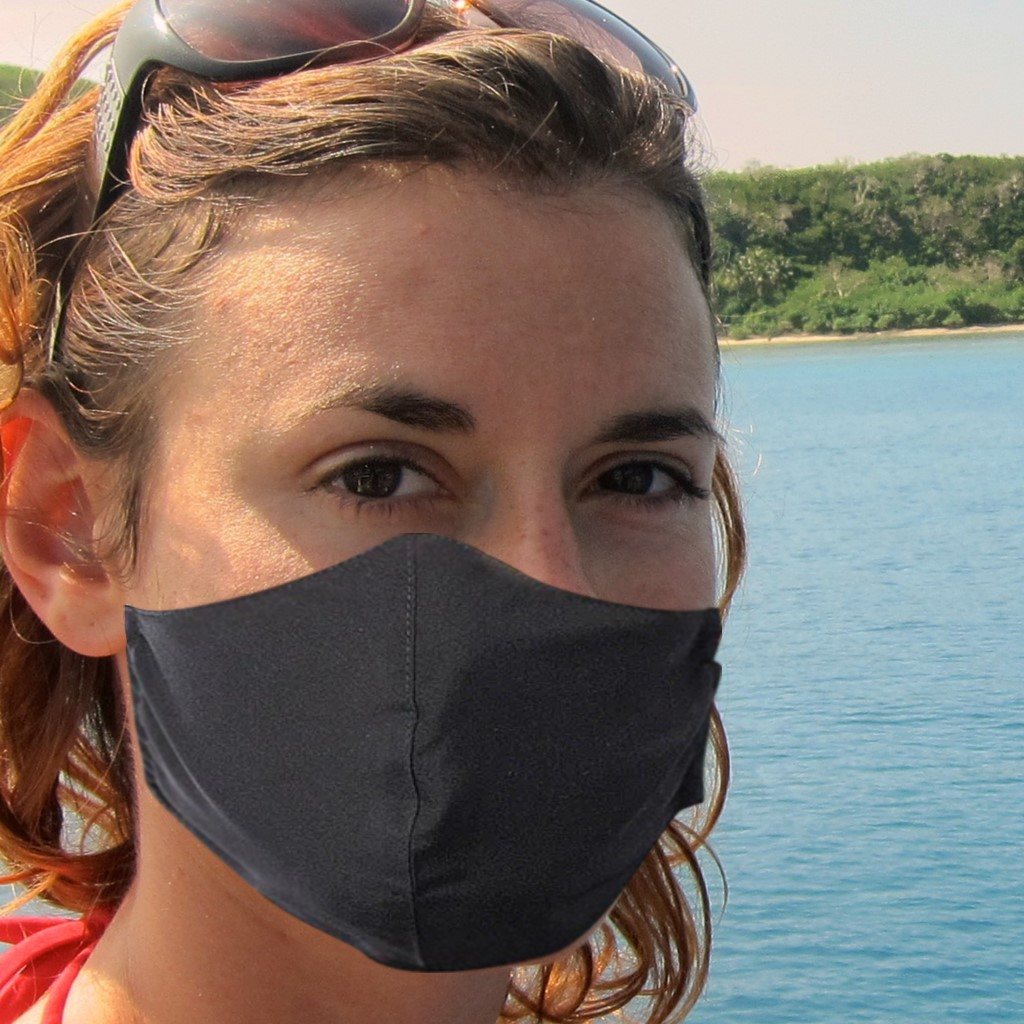con_mascara: (87, 76, 720, 967)
